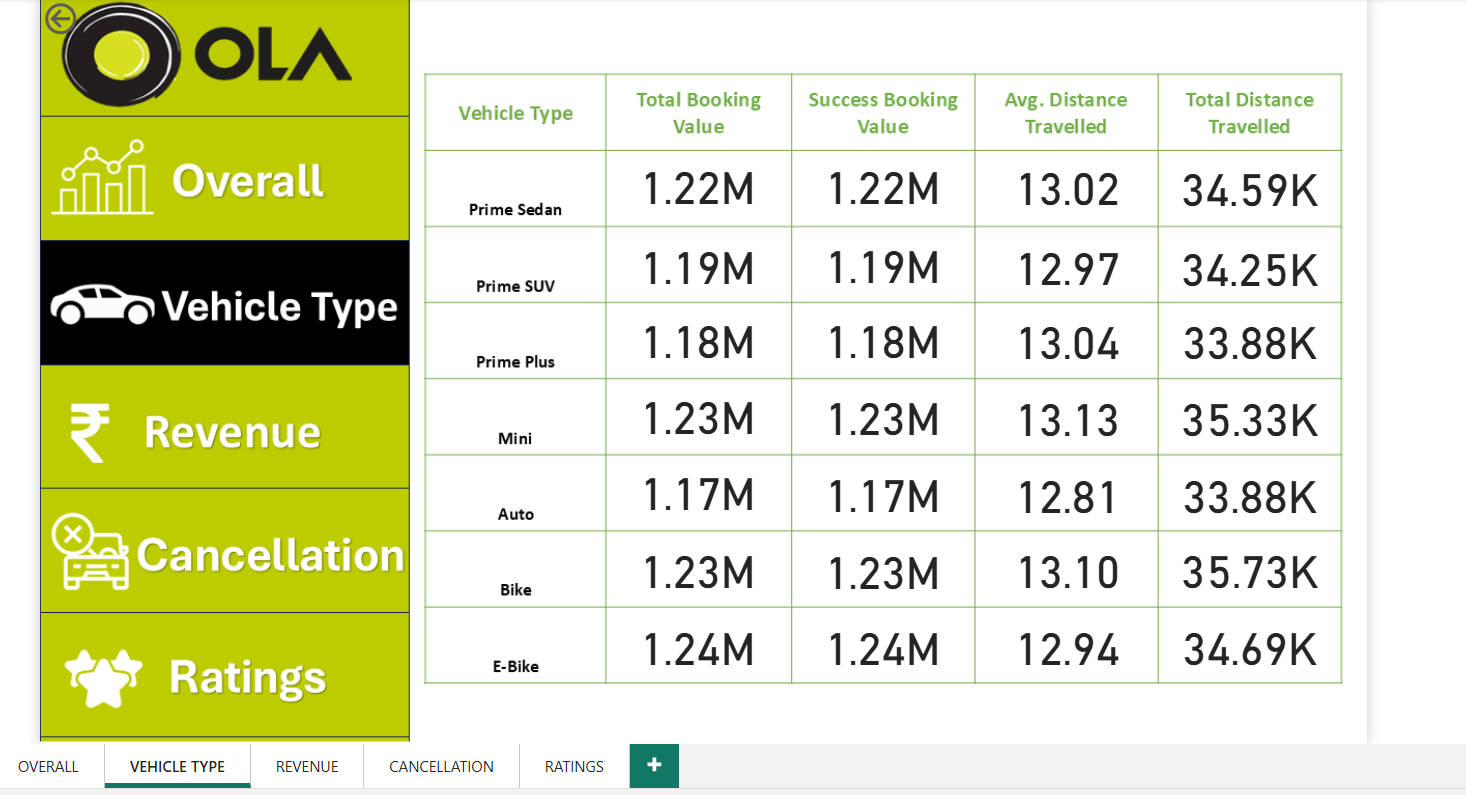

What the dashboard file says about the page in this screenshot:
{"tool":"powerbi","page":{"name":"VEHICLE TYPE","canvas":[1280,720],"ordinal":1},"visuals":[{"type":"actionButton","box":[0,351.1,355.9,118.2],"z":0},{"type":"actionButton","box":[1.2,472.9,355.9,118.2],"z":1000},{"type":"actionButton","box":[0,601.8,355.9,118.2],"z":2000},{"type":"actionButton","box":[0,119.4,355.9,118.2],"z":3000},{"type":"card","fields":{"Values":["Sum(Sheet.Booking Value)"]},"box":[553.1,146.9,164.1,64.1],"z":4000},{"type":"card","fields":{"Values":["Sum(Sheet.Booking Value)"]},"box":[553.1,225,164.1,64.1],"z":5000},{"type":"card","fields":{"Values":["Sum(Sheet.Booking Value)"]},"box":[553.1,295.3,164.1,64.1],"z":6000},{"type":"card","fields":{"Values":["Sum(Sheet.Booking Value)"]},"box":[553.1,517.2,164.1,64.1],"z":7000},{"type":"card","fields":{"Values":["Sum(Sheet.Booking Value)"]},"box":[553.1,442.2,164.1,64.1],"z":8000},{"type":"card","fields":{"Values":["Sum(Sheet.Booking Value)"]},"box":[553.1,359.4,164.1,82.8],"z":9000},{"type":"card","fields":{"Values":["Sum(Sheet.Booking Value)"]},"box":[553.1,592.2,164.1,64.1],"z":10000},{"type":"card","fields":{"Values":["Sum(Sheet.Booking Value)"]},"box":[731.2,146.9,164.1,64.1],"z":11000},{"type":"card","fields":{"Values":["Sum(Sheet.Booking Value)"]},"box":[731.2,225,164.1,60.9],"z":12000},{"type":"card","fields":{"Values":["Sum(Sheet.Booking Value)"]},"box":[731.2,295.3,164.1,64.1],"z":13000},{"type":"card","fields":{"Values":["Sum(Sheet.Booking Value)"]},"box":[731.2,360.9,164.1,82.8],"z":14000},{"type":"card","fields":{"Values":["Sum(Sheet.Booking Value)"]},"box":[731.2,443.8,164.1,64.1],"z":15000},{"type":"card","fields":{"Values":["Sum(Sheet.Booking Value)"]},"box":[731.2,518.8,164.1,64.1],"z":16000},{"type":"card","fields":{"Values":["Sum(Sheet.Booking Value)"]},"box":[731.2,592.2,164.1,64.1],"z":17000},{"type":"card","fields":{"Values":["Avg(Sheet.Ride Distance)"]},"box":[909.4,148.4,164.1,64.1],"z":18000},{"type":"card","fields":{"Values":["Avg(Sheet.Ride Distance)"]},"box":[909.4,226.6,164.1,60.9],"z":19000},{"type":"card","fields":{"Values":["Avg(Sheet.Ride Distance)"]},"box":[909.4,296.9,164.1,64.1],"z":20000},{"type":"card","fields":{"Values":["Avg(Sheet.Ride Distance)"]},"box":[909.4,362.5,164.1,82.8],"z":21000},{"type":"card","fields":{"Values":["Avg(Sheet.Ride Distance)"]},"box":[909.4,445.3,164.1,64.1],"z":22000},{"type":"card","fields":{"Values":["Avg(Sheet.Ride Distance)"]},"box":[909.4,517.2,164.1,64.1],"z":23000},{"type":"card","fields":{"Values":["Avg(Sheet.Ride Distance)"]},"box":[909.4,592.2,164.1,64.1],"z":24000},{"type":"actionButton","box":[0,0,100,40],"z":25000},{"type":"card","fields":{"Values":["Sum(Sheet.Ride Distance)"]},"box":[1085.9,150,164.1,62.5],"z":26000},{"type":"card","fields":{"Values":["Sum(Sheet.Ride Distance)"]},"box":[1085.9,228.1,164.1,60.9],"z":27000},{"type":"card","fields":{"Values":["Sum(Sheet.Ride Distance)"]},"box":[1085.9,296.9,164.1,64.1],"z":28000},{"type":"card","fields":{"Values":["Sum(Sheet.Ride Distance)"]},"box":[1085.9,362.5,164.1,82.8],"z":29000},{"type":"card","fields":{"Values":["Sum(Sheet.Ride Distance)"]},"box":[1085.9,445.3,164.1,64.1],"z":30000},{"type":"card","fields":{"Values":["Sum(Sheet.Ride Distance)"]},"box":[1085.9,517.2,164.1,64.1],"z":31000},{"type":"card","fields":{"Values":["Sum(Sheet.Ride Distance)"]},"box":[1085.9,592.2,164.1,64.1],"z":32000}]}

Visuals, with their boxes on the page's 1280x720 design canvas (x1, y1, x2, y2). These are canvas units, not pixel positions in the 1466x795 screenshot, which may show the page scaled, cropped or inside an application window:
actionButton: (0, 351, 356, 469)
actionButton: (1, 473, 357, 591)
actionButton: (0, 602, 356, 720)
actionButton: (0, 119, 356, 238)
card - Sum(Sheet.Booking Value): (553, 147, 717, 211)
card - Sum(Sheet.Booking Value): (553, 225, 717, 289)
card - Sum(Sheet.Booking Value): (553, 295, 717, 359)
card - Sum(Sheet.Booking Value): (553, 517, 717, 581)
card - Sum(Sheet.Booking Value): (553, 442, 717, 506)
card - Sum(Sheet.Booking Value): (553, 359, 717, 442)
card - Sum(Sheet.Booking Value): (553, 592, 717, 656)
card - Sum(Sheet.Booking Value): (731, 147, 895, 211)
card - Sum(Sheet.Booking Value): (731, 225, 895, 286)
card - Sum(Sheet.Booking Value): (731, 295, 895, 359)
card - Sum(Sheet.Booking Value): (731, 361, 895, 444)
card - Sum(Sheet.Booking Value): (731, 444, 895, 508)
card - Sum(Sheet.Booking Value): (731, 519, 895, 583)
card - Sum(Sheet.Booking Value): (731, 592, 895, 656)
card - Avg(Sheet.Ride Distance): (909, 148, 1074, 212)
card - Avg(Sheet.Ride Distance): (909, 227, 1074, 288)
card - Avg(Sheet.Ride Distance): (909, 297, 1074, 361)
card - Avg(Sheet.Ride Distance): (909, 362, 1074, 445)
card - Avg(Sheet.Ride Distance): (909, 445, 1074, 509)
card - Avg(Sheet.Ride Distance): (909, 517, 1074, 581)
card - Avg(Sheet.Ride Distance): (909, 592, 1074, 656)
actionButton: (0, 0, 100, 40)
card - Sum(Sheet.Ride Distance): (1086, 150, 1250, 212)
card - Sum(Sheet.Ride Distance): (1086, 228, 1250, 289)
card - Sum(Sheet.Ride Distance): (1086, 297, 1250, 361)
card - Sum(Sheet.Ride Distance): (1086, 362, 1250, 445)
card - Sum(Sheet.Ride Distance): (1086, 445, 1250, 509)
card - Sum(Sheet.Ride Distance): (1086, 517, 1250, 581)
card - Sum(Sheet.Ride Distance): (1086, 592, 1250, 656)
